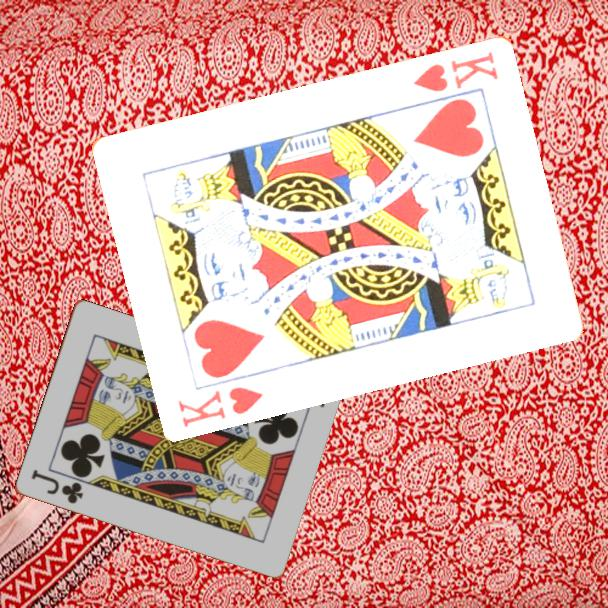c11: (27, 466, 86, 507)
h13: (175, 382, 266, 430), (410, 47, 502, 94)
